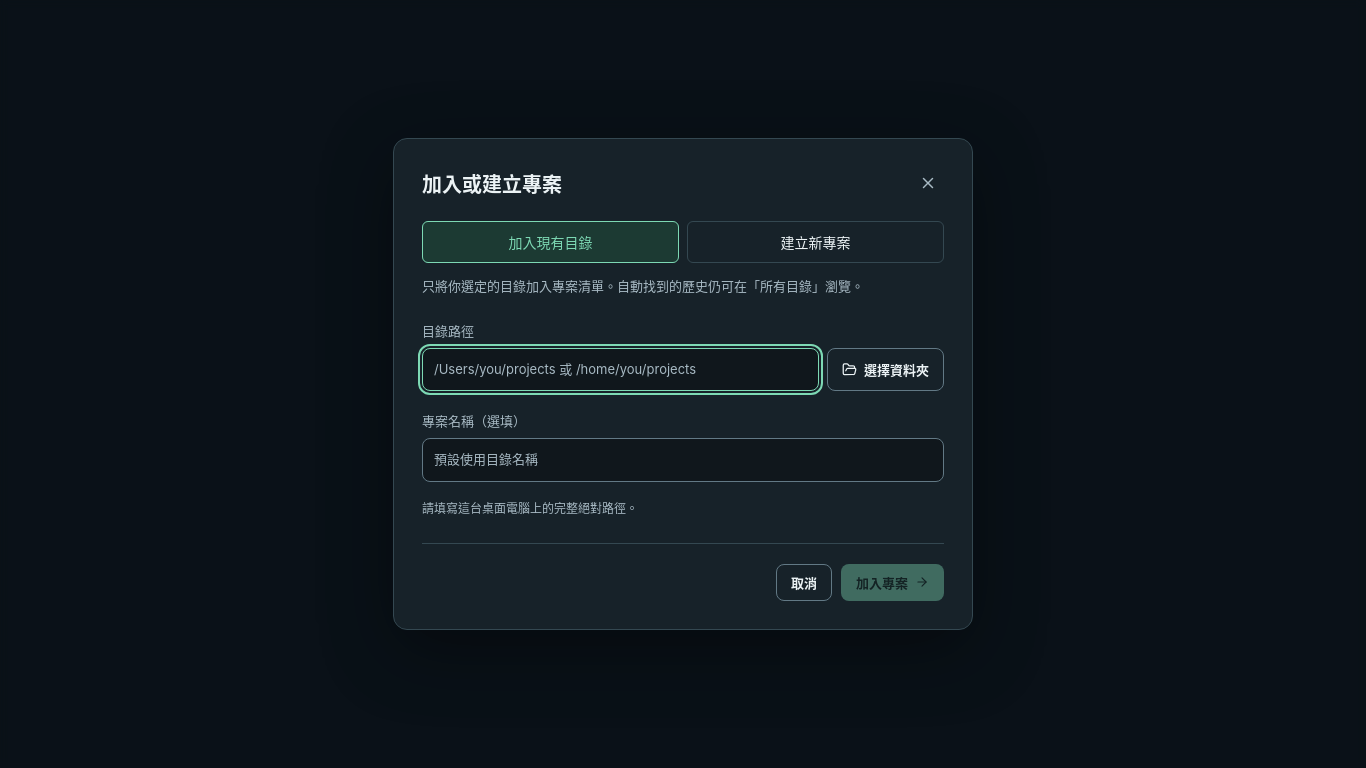
project directory selection › retains backend validation when a selected directory becomes inaccessible
Click the button with aria-label "選擇目錄路徑" at point(886, 369), box [827,348,944,391]
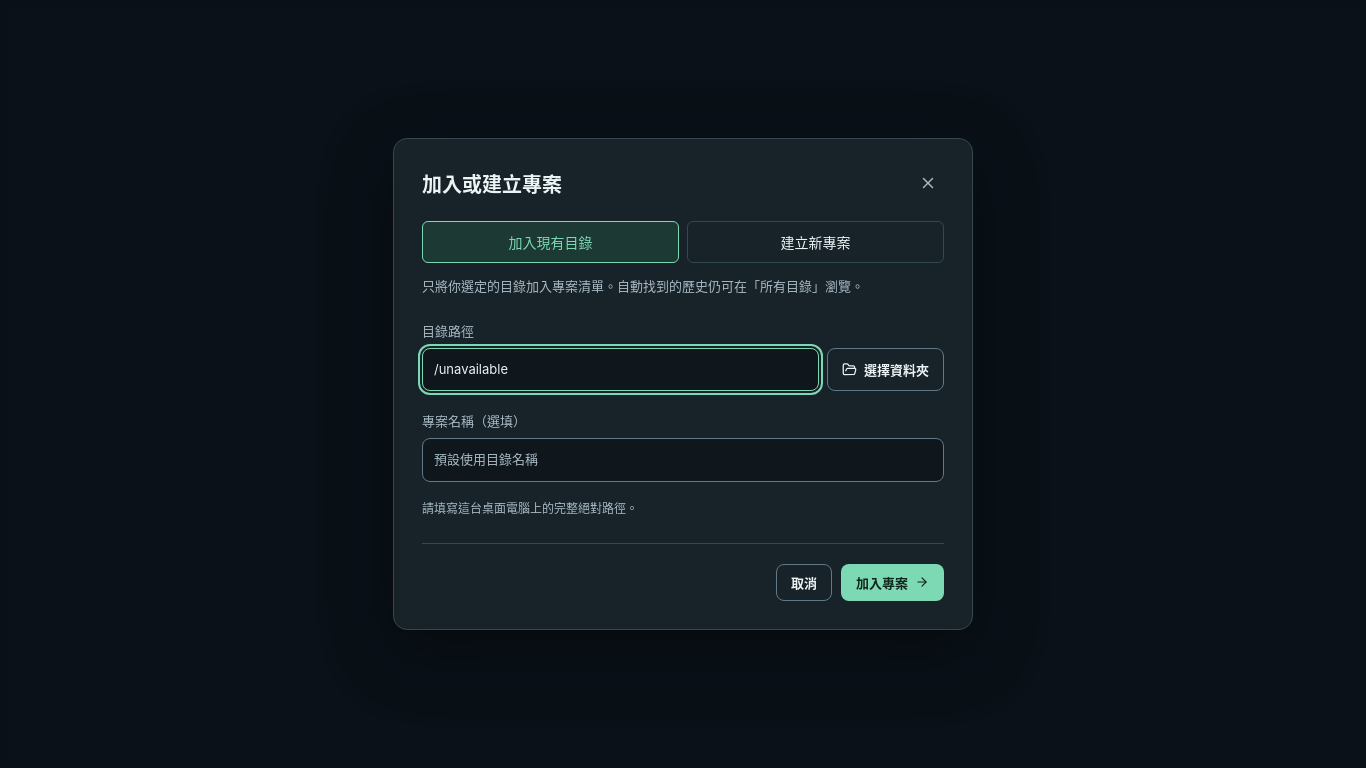
Click the button "加入專案" at point(892, 582), box [841,564,944,601]
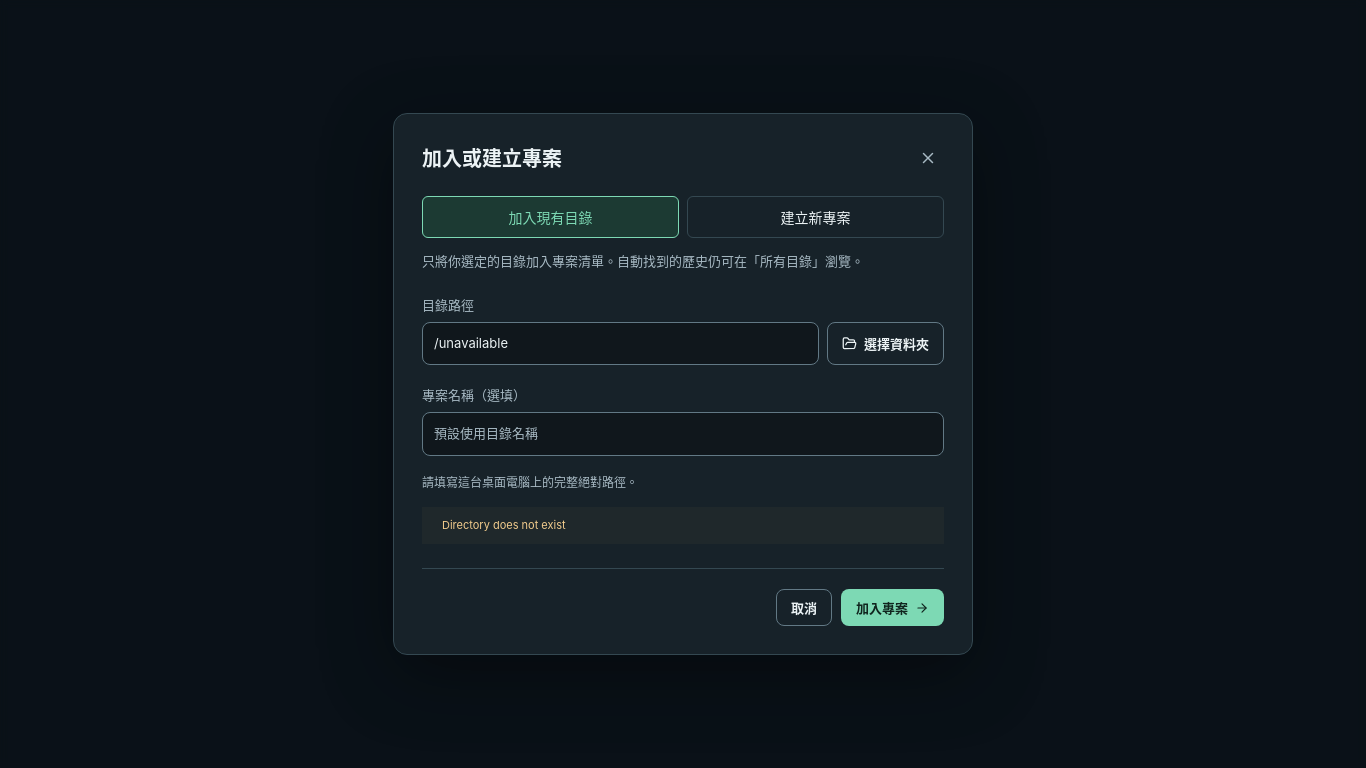
Expected: the button with aria-label "選擇目錄路徑" is enabled, [827,322,944,365]
Expected: the field labelled "目錄路徑" holds "/unavailable", [422,322,819,365]
Expected: the message reads "Directory does not exist", [442,518,566,532]
